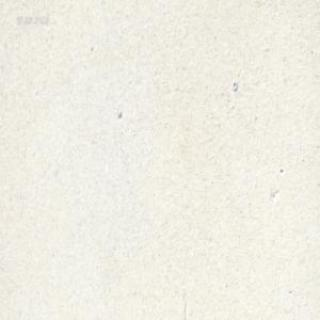Washertrack_idkeyframe: (230, 78, 237, 89)
